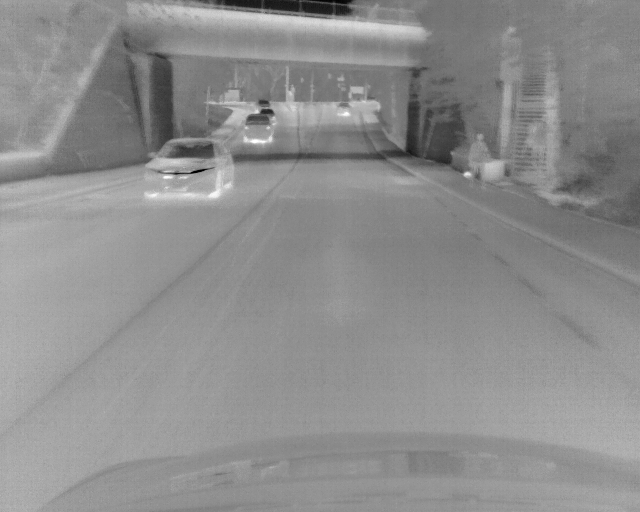car: (142, 137, 236, 202), (243, 115, 272, 145), (335, 101, 351, 117), (260, 109, 275, 126), (256, 98, 269, 109)
people: (467, 132, 490, 191)
